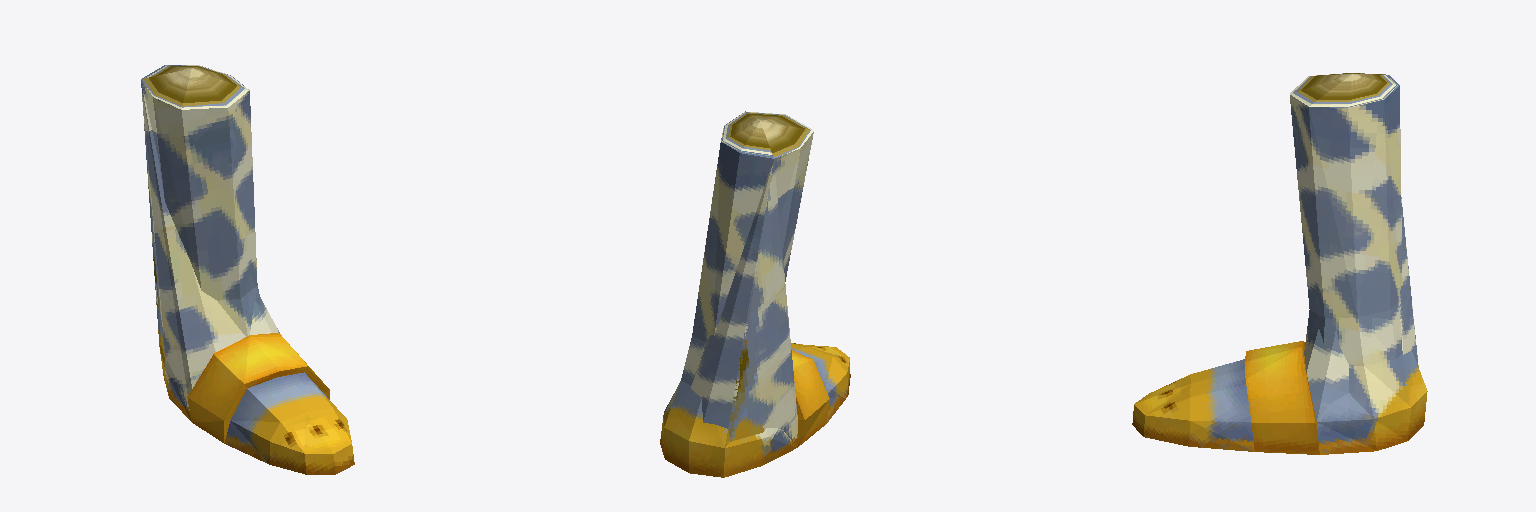
The picture shows the model from 3 angles: view 1: azimuth 30°, elevation 25°; view 2: azimuth 150°, elevation 25°; view 3: azimuth 270°, elevation 25°; orthographic projection.
Visible parts, largest first — view 1: left_leg-19_anubismon.blend_Mesh.020; view 2: left_leg-19_anubismon.blend_Mesh.020; view 3: left_leg-19_anubismon.blend_Mesh.020.
Boxes of the visible parts, box(x1,y1,x2,y2) form: left_leg-19_anubismon.blend_Mesh.020: box(141, 65, 354, 474); left_leg-19_anubismon.blend_Mesh.020: box(660, 111, 850, 477); left_leg-19_anubismon.blend_Mesh.020: box(1132, 73, 1427, 454).
Bounding box in the file's own units: 0.1249 × 0.2946 × 0.2348.
Materials: 1 (1 with a texture image).